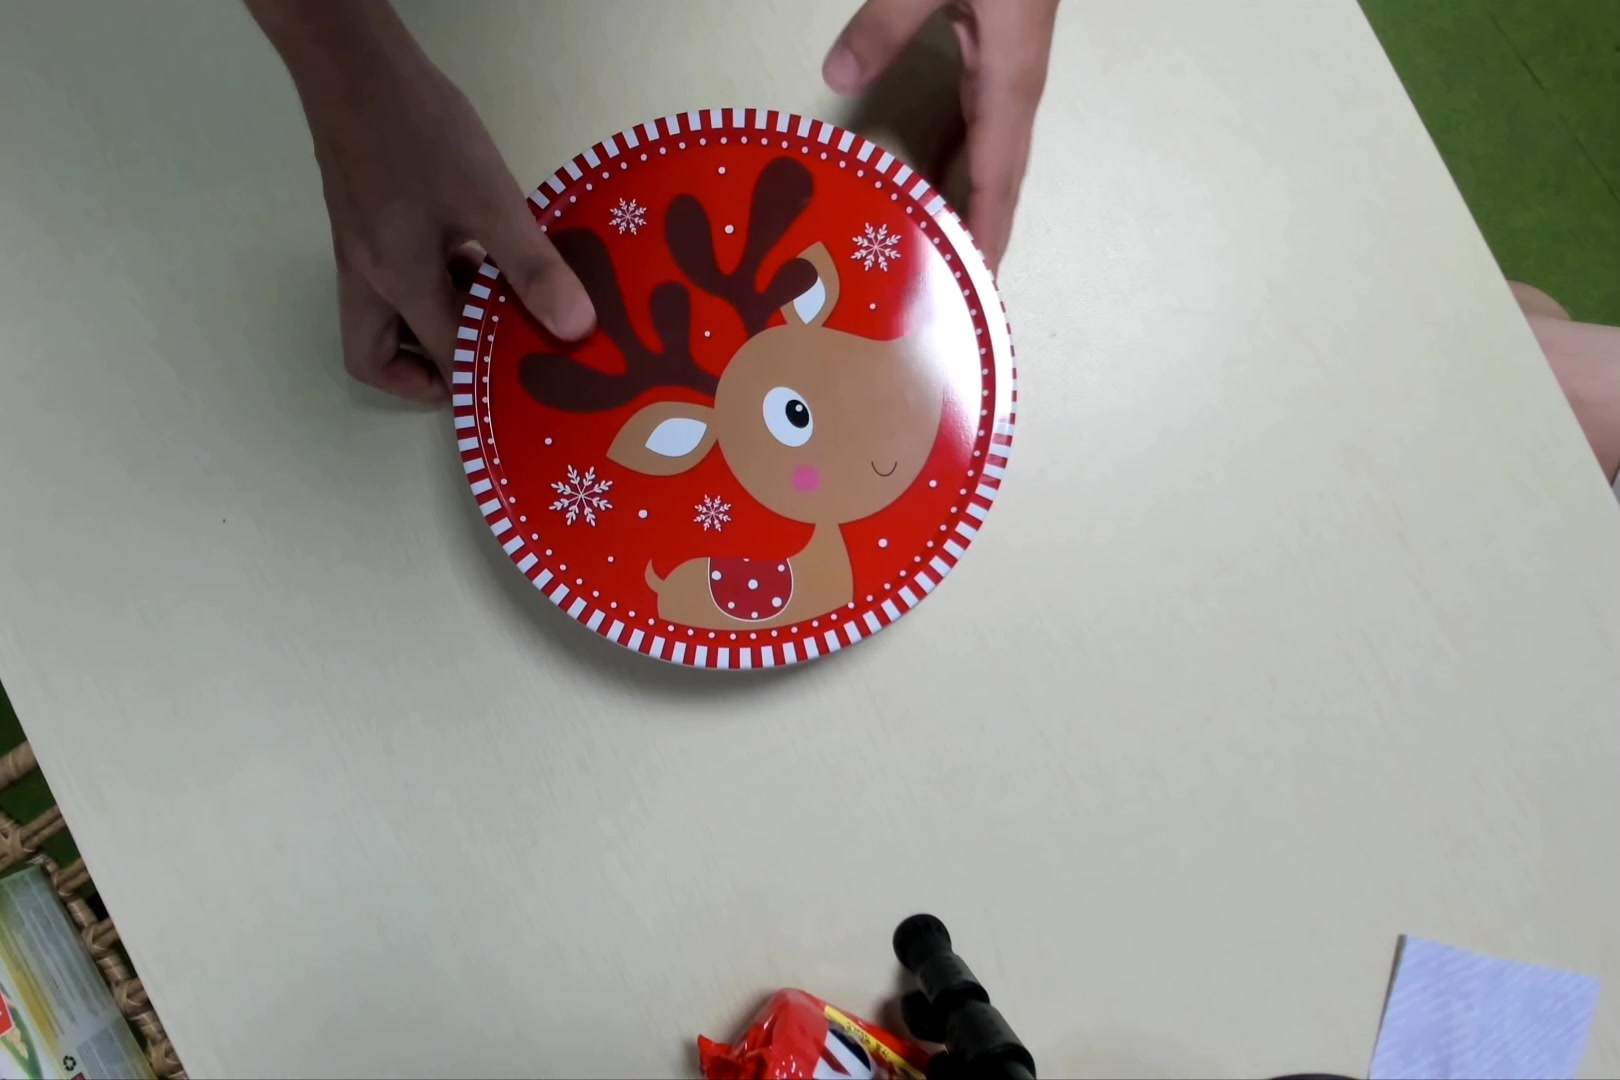BiscuitsCrackersCookies_400-499g_NonHalal_NonHealthy: (454, 115, 1019, 676)
